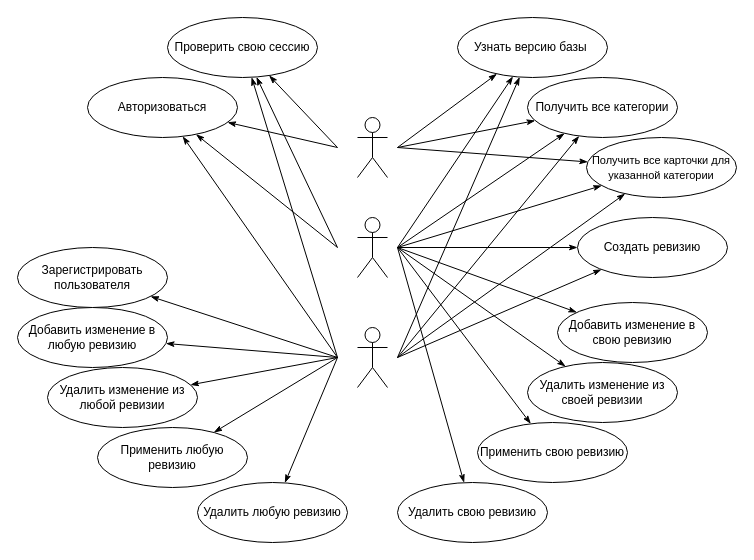
Image size: 754x560. Some labels were removed from this diagram. Each missing label, with the centre of its shape:
"Администратор" belongs at (372,357).
"Модератор" belongs at (372,247).
"Пользователь" belongs at (372,147).
